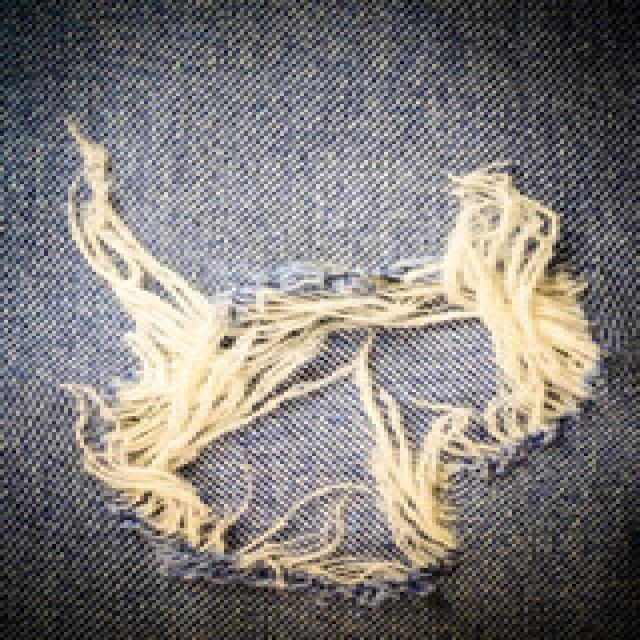Hole: (67, 135, 600, 590)
